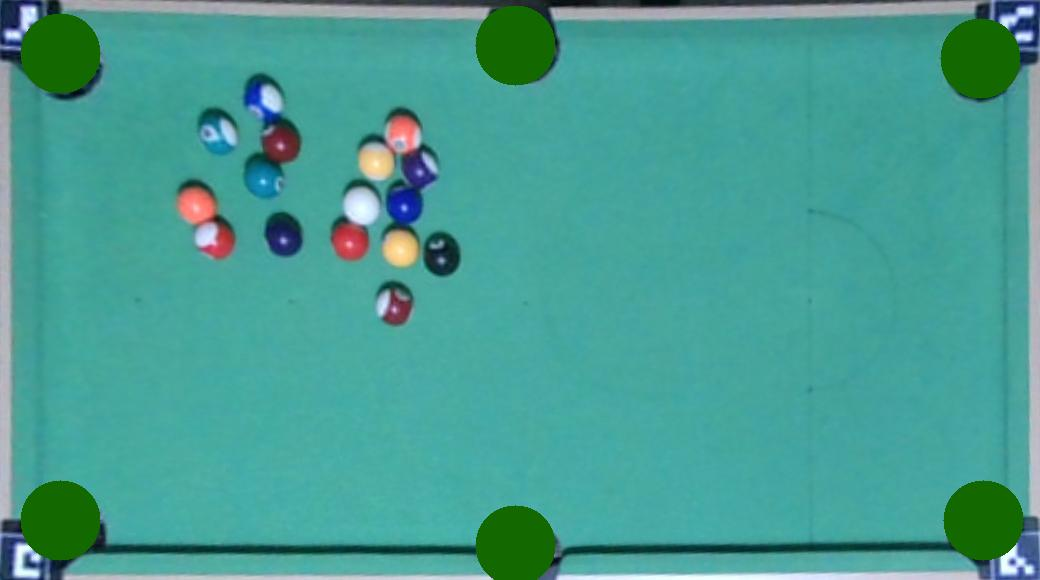Ball: (243, 77, 285, 120), (198, 112, 239, 154), (382, 114, 422, 154), (260, 122, 301, 161), (194, 220, 235, 258), (422, 235, 460, 275), (374, 286, 414, 324), (244, 158, 282, 198), (402, 148, 440, 188), (264, 216, 302, 255), (381, 228, 419, 266), (342, 188, 380, 226), (176, 187, 216, 223), (329, 223, 369, 259), (384, 186, 424, 222), (360, 144, 394, 183)
